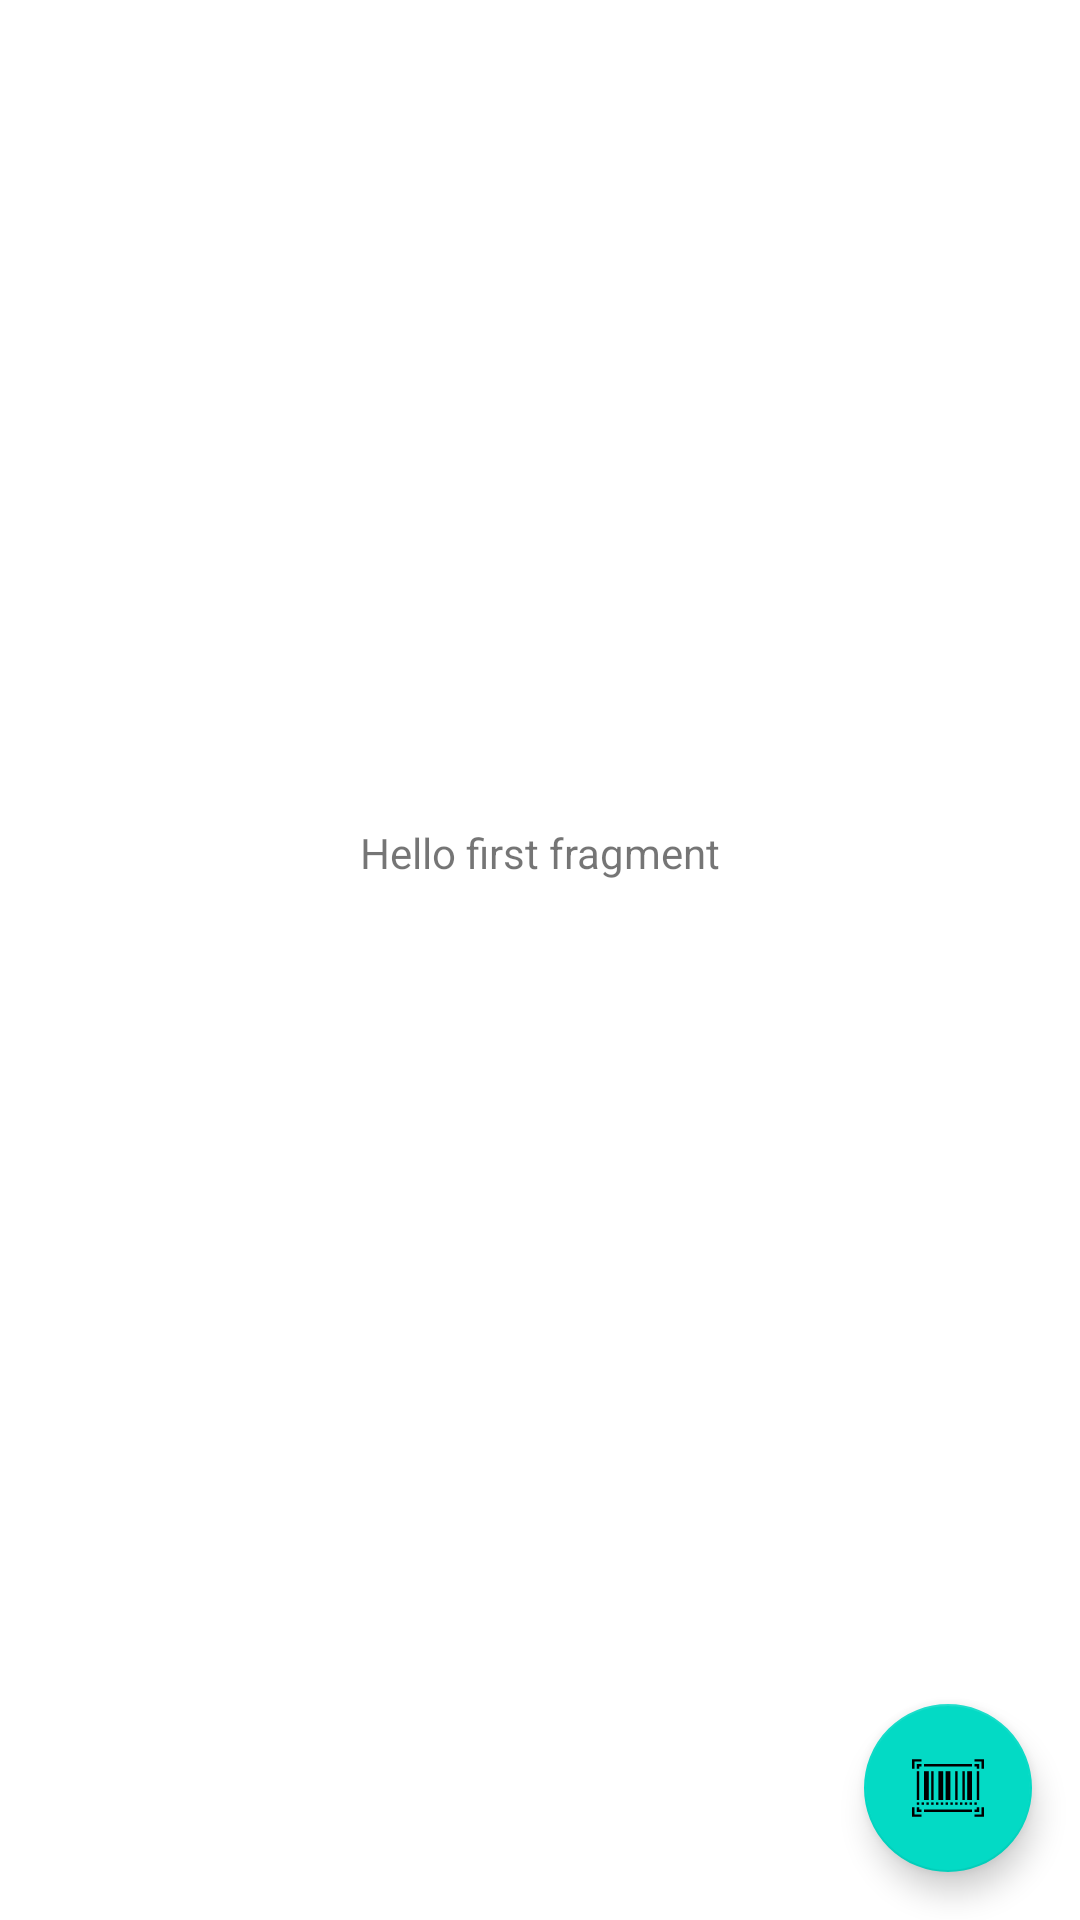

Where to tap for icons on this 1080*1920 app screen, as [x,y]:
scanner: [948,1788]
